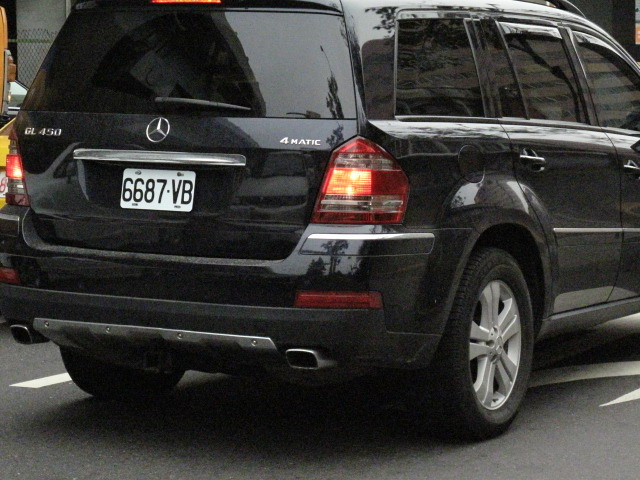plate: (119, 167, 199, 214)
